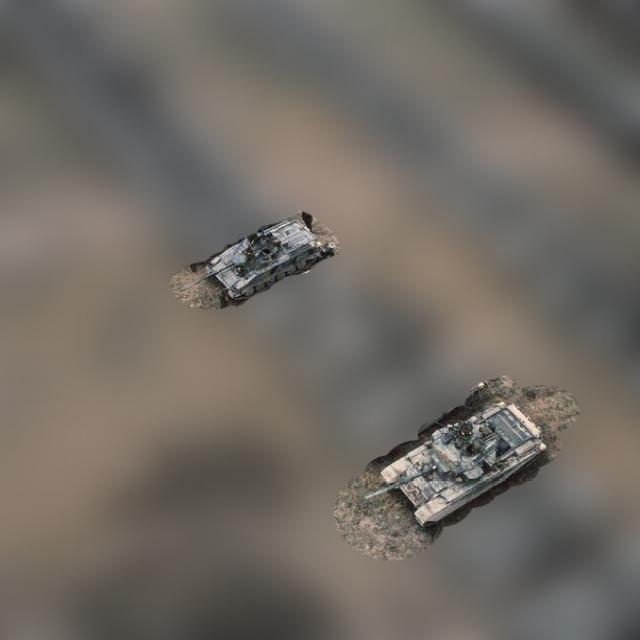tank: (361, 404, 548, 531), (183, 216, 336, 309)
